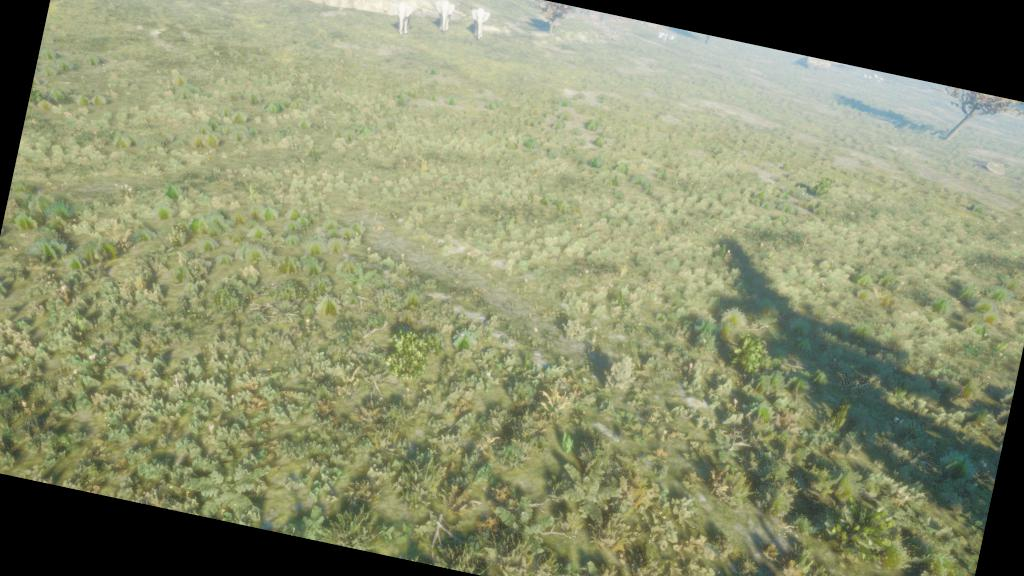elephant: (421, 0, 462, 41), (462, 0, 496, 45), (386, 0, 422, 42)
